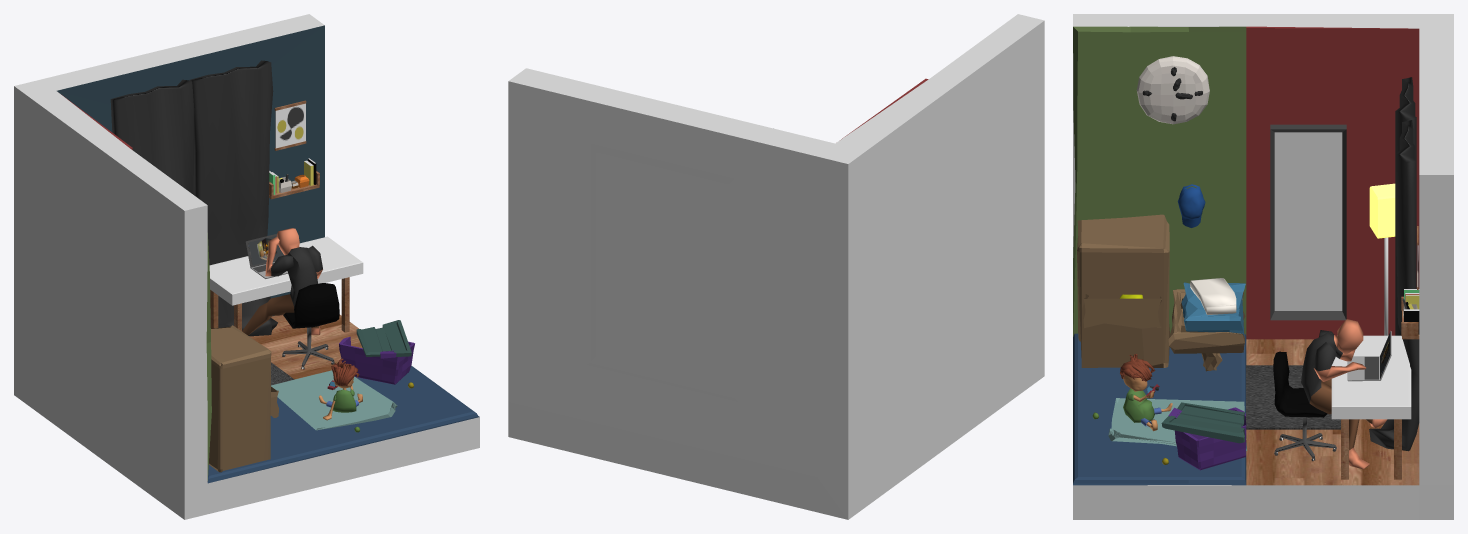
The model's file is yesterdaytoday-isometric-room.fbx.
The picture shows the model from 3 angles, left to right: view 1: azimuth 30°, elevation 25°; view 2: azimuth 150°, elevation 25°; view 3: azimuth 270°, elevation 25°; orthographic projection. The views are drawn at different scales.
Visible parts, largest first — view 1: room_lightBlockerSolid_0, curtain.R_curtain_0, room_wallReal2_0, room_floorClay_0, dresser_dresser_0, curtain.L_curtain_0, desk_whiteDesk_0, rug_rugClay_0, room_floorReal_0, officeChair_blackLeather_0, container_pasticBinClay_0, container lid_lidClay_0 (+8 smaller); view 2: room_lightBlockerSolid_0, room_windowpane_0; view 3: room_lightBlockerSolid_0, room_wallClay_0, room_brick_0, room_floorClay_0, dresser_dresser_0, mirror_mirror_0, room_floorReal_0, curtain.R_curtain_0, desk_whiteDesk_0, clock_clockClay_0, mirror_blackPlastic_0, Plane_rugReal_0 (+21 smaller).
Boxes of the visible parts, left/top/right/bottom form: room_lightBlockerSolid_0: left=14, top=14, right=479, bottom=519; curtain.R_curtain_0: left=189, top=60, right=277, bottom=336; room_wallReal2_0: left=57, top=25, right=324, bottom=316; room_floorClay_0: left=207, top=365, right=479, bottom=483; dresser_dresser_0: left=208, top=325, right=278, bottom=472; curtain.L_curtain_0: left=110, top=79, right=194, bottom=194; desk_whiteDesk_0: left=209, top=236, right=363, bottom=305; rug_rugClay_0: left=271, top=370, right=397, bottom=430; room_floorReal_0: left=249, top=314, right=362, bottom=379; officeChair_blackLeather_0: left=283, top=283, right=339, bottom=328; container_pasticBinClay_0: left=339, top=336, right=414, bottom=384; container lid_lidClay_0: left=356, top=320, right=411, bottom=358; room_lightBlockerSolid_0: left=508, top=14, right=1044, bottom=519; room_windowpane_0: left=596, top=153, right=728, bottom=388; room_lightBlockerSolid_0: left=1073, top=14, right=1453, bottom=519; room_wallClay_0: left=1073, top=26, right=1246, bottom=336; room_brick_0: left=1246, top=26, right=1419, bottom=339; room_floorClay_0: left=1073, top=333, right=1246, bottom=485; dresser_dresser_0: left=1077, top=214, right=1169, bottom=367; mirror_mirror_0: left=1274, top=132, right=1342, bottom=310; room_floorReal_0: left=1246, top=339, right=1419, bottom=485; curtain.R_curtain_0: left=1369, top=120, right=1419, bottom=451; desk_whiteDesk_0: left=1331, top=335, right=1411, bottom=419; clock_clockClay_0: left=1136, top=56, right=1209, bottom=124; mirror_blackPlastic_0: left=1270, top=124, right=1346, bottom=320; Plane_rugReal_0: left=1246, top=365, right=1340, bottom=429.
Bounding box in the file's own units: 100000 × 100000 × 100000.
